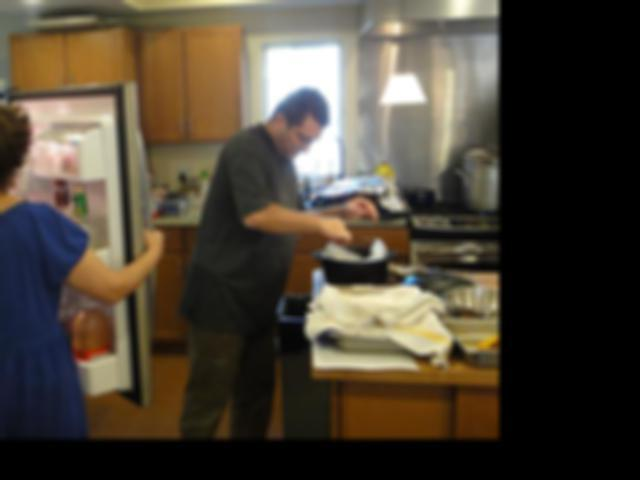Bote de Basura: (275, 290, 336, 438)
Lavaplatos: (255, 176, 353, 222)
